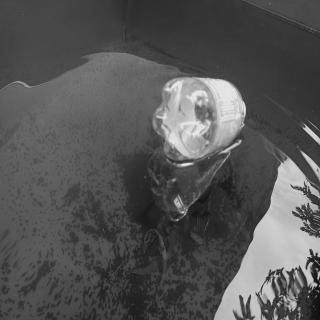bottle: (150, 71, 247, 167)
